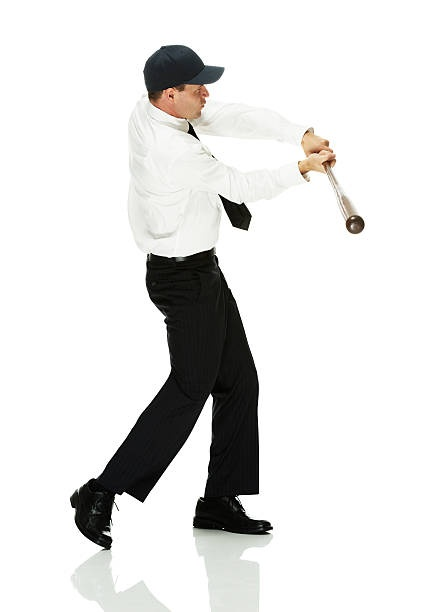bita: (320, 142, 366, 234)
